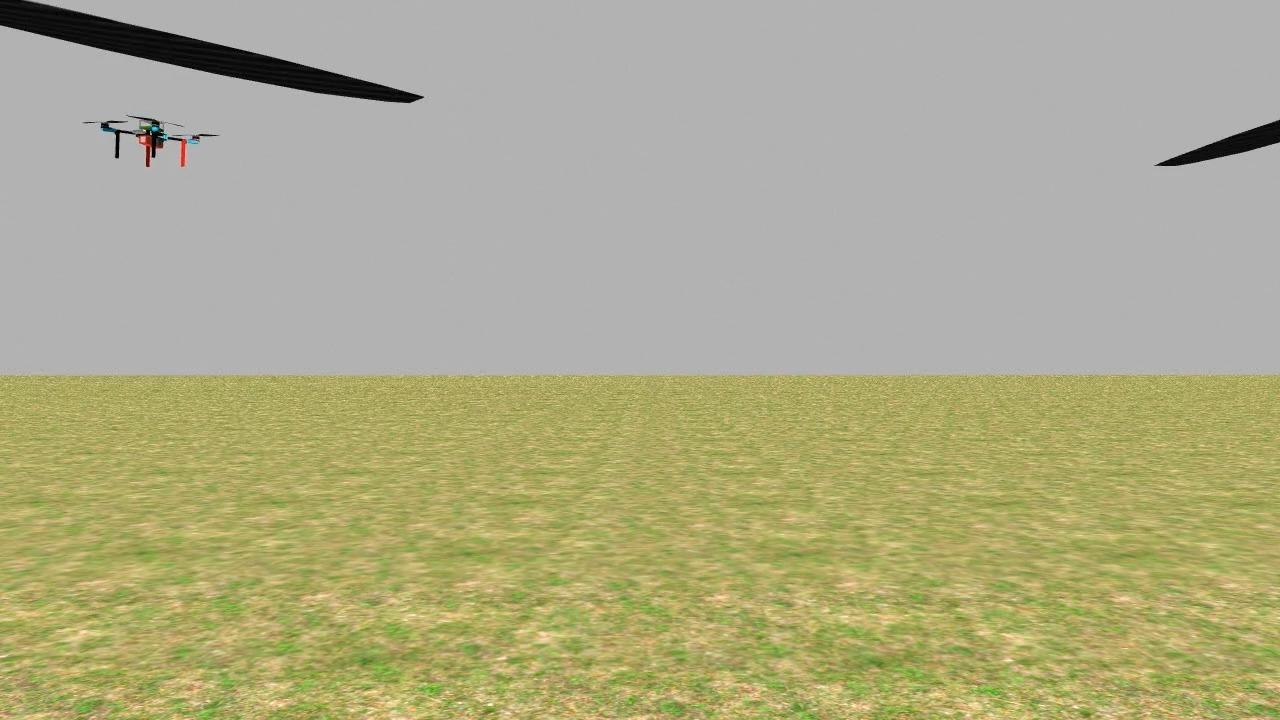UAV: (88, 91, 216, 189)
